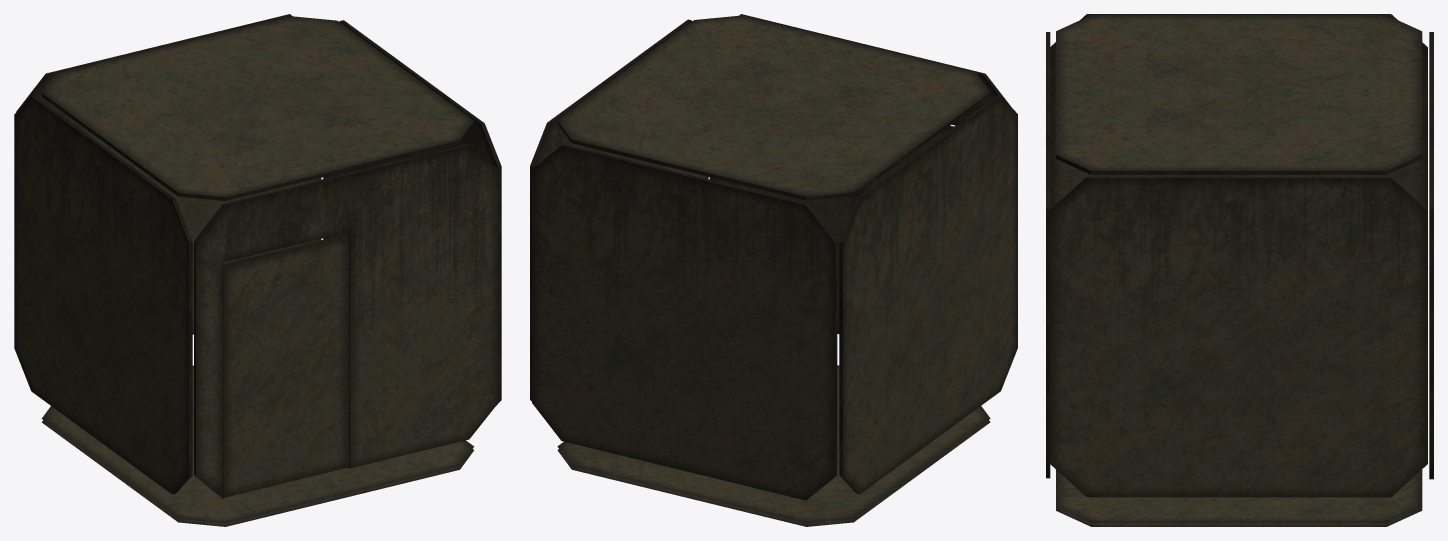
File: 03_02_containment_cube_glass_cracked.dae
3 renders of one model, left to right at view 1: azimuth 30°, elevation 25°; view 2: azimuth 150°, elevation 25°; view 3: azimuth 270°, elevation 25°, orthographic. The views are drawn at different scales.
Visible parts, largest first — view 1: glass_cracked; view 2: glass_cracked; view 3: glass_cracked.
Boxes of the visible parts, bbox=[...] form: glass_cracked: bbox=[14, 14, 501, 526]; glass_cracked: bbox=[530, 14, 1017, 526]; glass_cracked: bbox=[1046, 14, 1433, 526].
Bounding box in the file's own units: 3.81 × 3.84 × 3.79.
